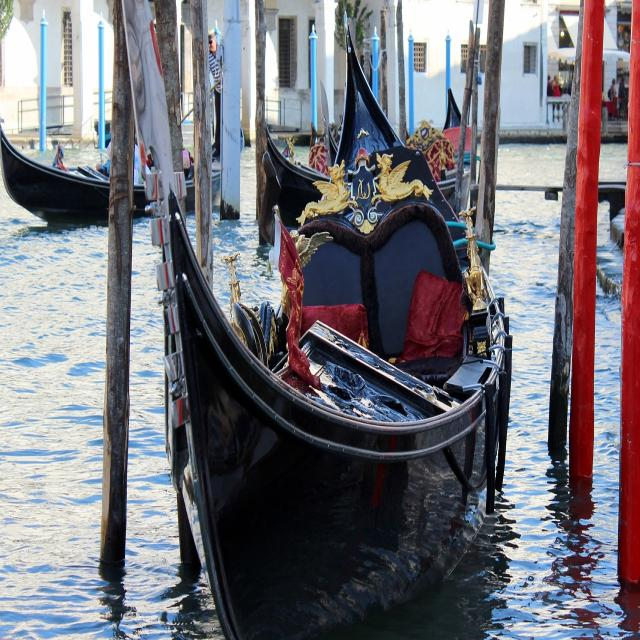boat: (122, 55, 522, 640), (0, 96, 222, 232)
